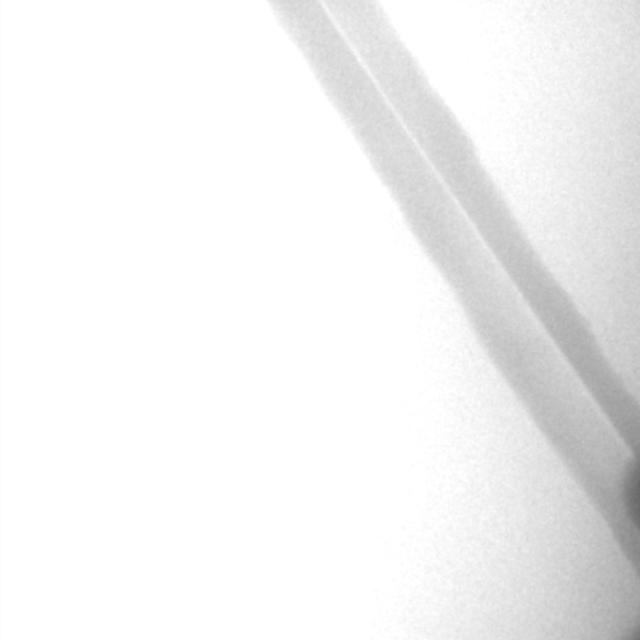broken arc: (321, 2, 635, 456)
